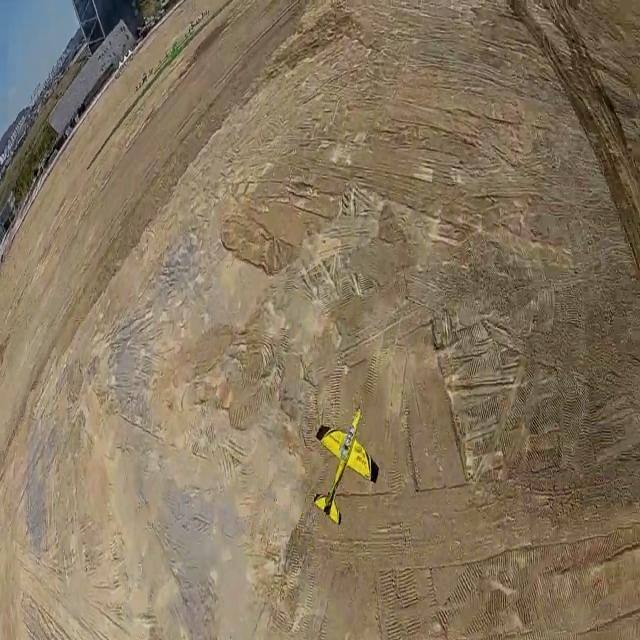iha: (341, 434, 345, 496)
